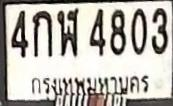0: (130, 8, 146, 54)
3: (151, 7, 167, 53)
4: (88, 7, 106, 56), (10, 9, 27, 57)
8: (109, 8, 125, 54)
A01: (32, 10, 52, 57)
A42: (56, 7, 78, 56)
BKK: (27, 69, 153, 99)
